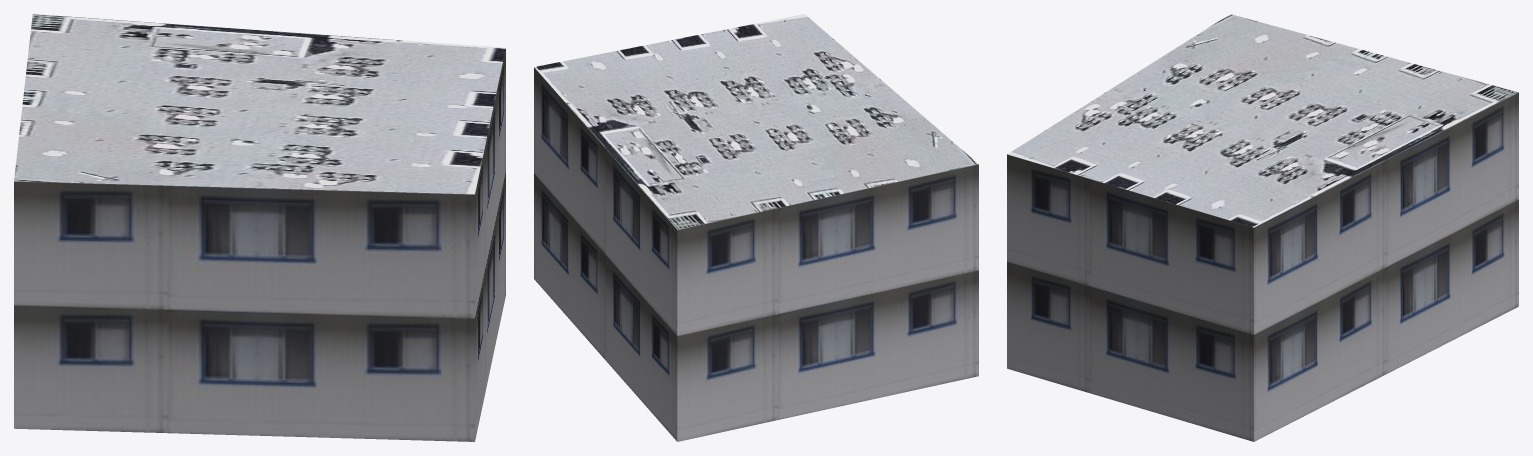
The model's file is ResTex__4022.fbx.
The picture shows the model from 3 angles, left to right: view 1: azimuth 30°, elevation 25°; view 2: azimuth 150°, elevation 25°; view 3: azimuth 270°, elevation 25°; orthographic projection. The views are drawn at different scales.
Visible parts, largest first — view 1: CityEngineMaterial_9_m, CityEngineMaterial_8_m; view 2: CityEngineMaterial_9_m, CityEngineMaterial_8_m; view 3: CityEngineMaterial_9_m, CityEngineMaterial_8_m.
Part boxes in pixels (<box>): CityEngineMaterial_9_m: <box>14,48,505,441</box>; CityEngineMaterial_8_m: <box>14,14,505,194</box>; CityEngineMaterial_9_m: <box>534,67,978,441</box>; CityEngineMaterial_8_m: <box>534,14,978,229</box>; CityEngineMaterial_9_m: <box>1007,92,1518,441</box>; CityEngineMaterial_8_m: <box>1007,14,1518,227</box>.
Size of the model in its own units: 12.83 by 6 by 12.98.
2 materials, 2 textured.
